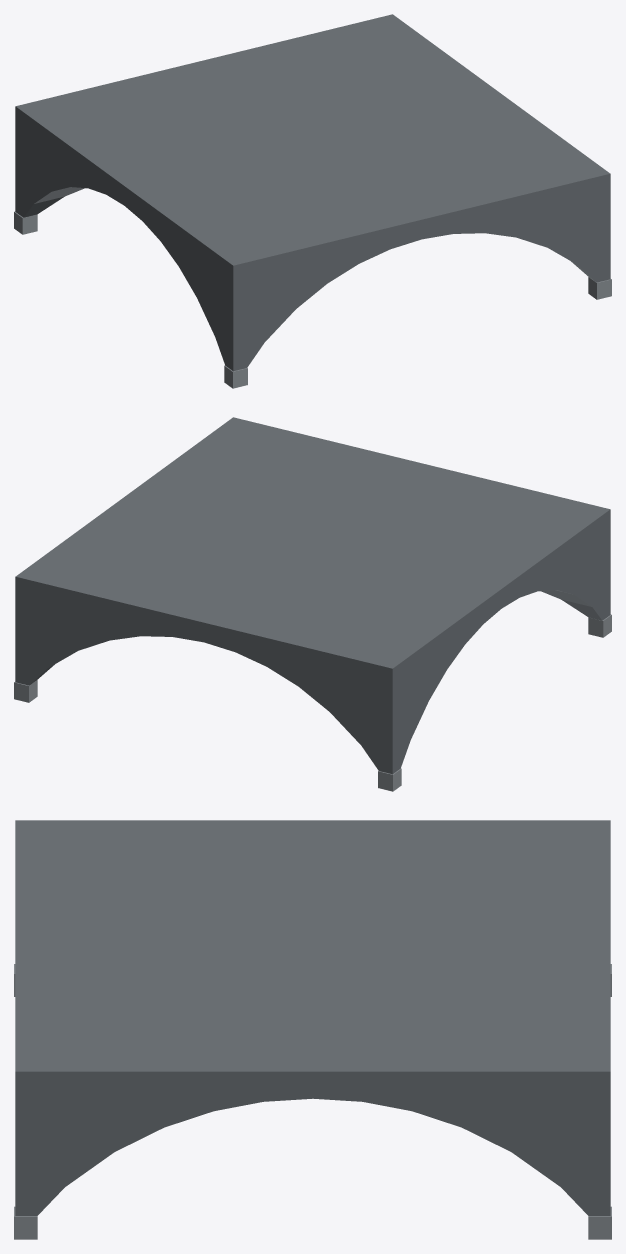
File: mdvl_dungeon_junction_01.glb
3 renders of one model, top to bottom at view 1: azimuth 30°, elevation 25°; view 2: azimuth 150°, elevation 25°; view 3: azimuth 270°, elevation 25°, orthographic. The views are drawn at different scales.
Parts seen in each view (by area): view 1: mdvl_dungeon_junction_01; view 2: mdvl_dungeon_junction_01; view 3: mdvl_dungeon_junction_01.
Part boxes in pixels (x1,y1,x2,y2): mdvl_dungeon_junction_01: (14,14,611,388); mdvl_dungeon_junction_01: (14,417,611,791); mdvl_dungeon_junction_01: (14,820,611,1239).
Size of the model in its own units: 2.01 by 0.62 by 2.01.
1 material, 1 textured.
